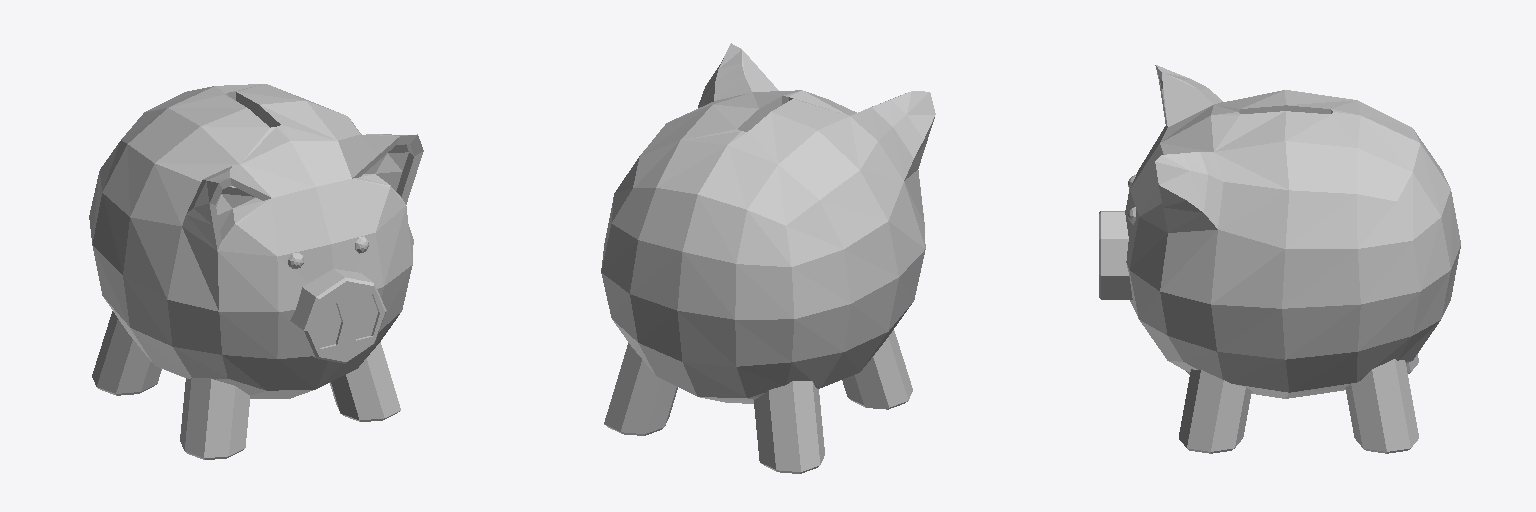
Rendered from piggy bank.obj.
The picture shows the model from 3 angles: view 1: azimuth 30°, elevation 25°; view 2: azimuth 150°, elevation 25°; view 3: azimuth 270°, elevation 25°; orthographic projection.
Bounding box in the file's own units: 0.8785 × 0.9392 × 1.04.